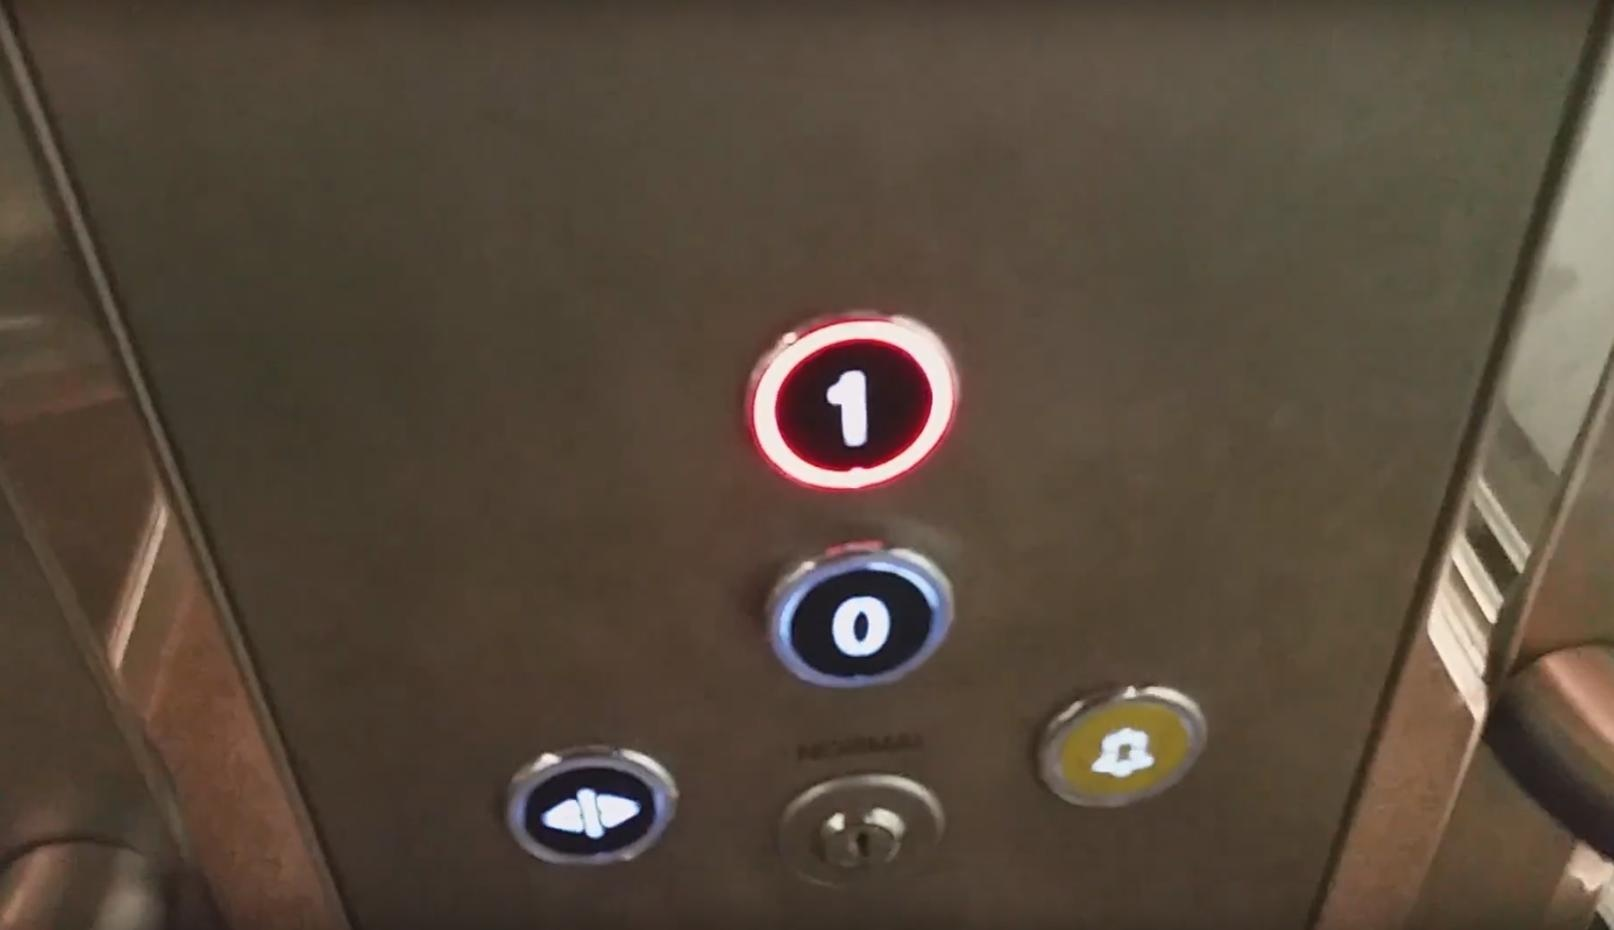0: (762, 541, 956, 691)
1: (742, 305, 963, 500)
alarm: (1035, 681, 1207, 810)
keyhole: (772, 774, 950, 889)
open: (507, 743, 677, 868)
